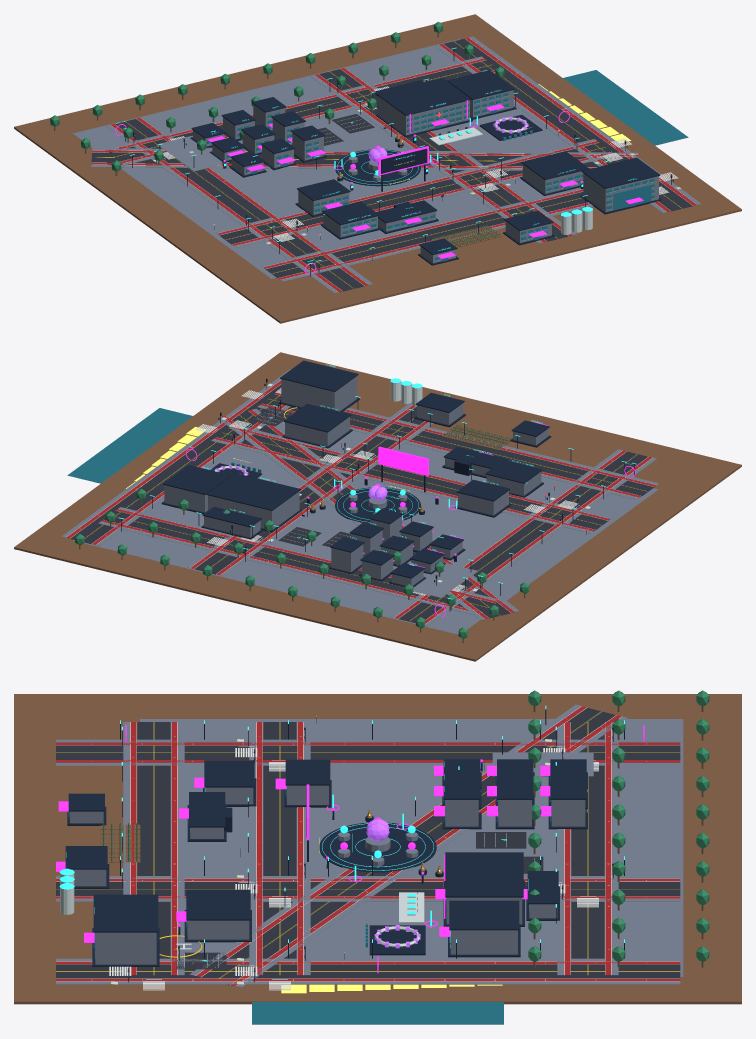
File: ENV_Arapiraca_Cyber_20261005.glb
The picture shows the model from 3 angles, top to bottom: view 1: azimuth 30°, elevation 25°; view 2: azimuth 150°, elevation 25°; view 3: azimuth 270°, elevation 25°; orthographic projection. The views are drawn at different scales.
Visible parts, largest first — view 1: ENV_ARAP_Base, ENV_ARAP_UrbanPlate, ROAD_WEST_COLLECTOR, ROAD_SOUTH_ACCESS, ROAD_OUTER_COLLECTOR, ENV_ARAP_SeaPortal, ROAD_EAST_WEST, ROAD_EAST_COLLECTOR, BLD_PREP_Emergency_HEA_Concept_Roof, ROAD_AL220_HEA_AXIS, ROAD_NORTH_ACCESS, BLD_PREP_Emergency_HEA_Concept_Core (+43 smaller); view 2: ENV_ARAP_Base, ENV_ARAP_UrbanPlate, ROAD_WEST_COLLECTOR, ENV_ARAP_SeaPortal, ROAD_EAST_WEST, ROAD_OUTER_COLLECTOR, ROAD_SOUTH_ACCESS, ROAD_NORTH_ACCESS, ROAD_AL220_HEA_AXIS, ROAD_EAST_COLLECTOR, BLD_PREP_Emergency_HEA_Concept_Roof, BLD_HelicopterHangar_Core (+47 smaller); view 3: ENV_ARAP_Base, ENV_ARAP_UrbanPlate, ROAD_OUTER_COLLECTOR, ROAD_WEST_COLLECTOR, ENV_ARAP_SeaPortal, ROAD_SOUTH_ACCESS, ROAD_NORTH_ACCESS, ROAD_AL220_HEA_AXIS, ROAD_EAST_WEST, ROAD_EAST_COLLECTOR, BLD_PREP_Emergency_HEA_Concept_Roof, PLAZA_Base (+56 smaller).
Boxes of the visible parts, x1,y1,x2,y2 form: ENV_ARAP_Base: [14, 14, 741, 323]; ENV_ARAP_UrbanPlate: [73, 39, 568, 278]; ROAD_WEST_COLLECTOR: [115, 119, 364, 291]; ROAD_SOUTH_ACCESS: [266, 192, 587, 277]; ROAD_OUTER_COLLECTOR: [443, 38, 692, 211]; ENV_ARAP_SeaPortal: [563, 70, 688, 145]; ROAD_EAST_WEST: [219, 146, 611, 244]; ROAD_EAST_COLLECTOR: [319, 69, 568, 241]; BLD_PREP_Emergency_HEA_Concept_Roof: [377, 78, 471, 115]; ROAD_AL220_HEA_AXIS: [91, 152, 628, 166]; ROAD_NORTH_ACCESS: [109, 60, 496, 161]; BLD_PREP_Emergency_HEA_Concept_Core: [378, 96, 469, 135]; ENV_ARAP_Base: [14, 352, 741, 661]; ENV_ARAP_UrbanPlate: [73, 421, 658, 634]; ROAD_WEST_COLLECTOR: [399, 451, 647, 623]; ENV_ARAP_SeaPortal: [67, 408, 192, 483]; ROAD_EAST_WEST: [217, 428, 607, 529]; ROAD_OUTER_COLLECTOR: [70, 384, 281, 543]; ROAD_SOUTH_ACCESS: [264, 395, 654, 495]; ROAD_NORTH_ACCESS: [105, 511, 494, 607]; ROAD_AL220_HEA_AXIS: [232, 411, 510, 618]; ROAD_EAST_COLLECTOR: [195, 406, 424, 574]; BLD_PREP_Emergency_HEA_Concept_Roof: [206, 473, 300, 510]; BLD_HelicopterHangar_Core: [281, 376, 357, 411]; ENV_ARAP_Base: [14, 694, 741, 1004]; ENV_ARAP_UrbanPlate: [140, 719, 683, 976]; ROAD_OUTER_COLLECTOR: [56, 964, 680, 978]; ROAD_WEST_COLLECTOR: [56, 745, 680, 759]; ENV_ARAP_SeaPortal: [252, 1002, 503, 1024]; ROAD_SOUTH_ACCESS: [137, 722, 170, 968]; ROAD_NORTH_ACCESS: [571, 722, 604, 958]; ROAD_AL220_HEA_AXIS: [201, 708, 615, 984]; ROAD_EAST_WEST: [263, 722, 296, 973]; ROAD_EAST_COLLECTOR: [56, 882, 680, 895]; BLD_PREP_Emergency_HEA_Concept_Roof: [445, 852, 523, 897]; PLAZA_Base: [319, 822, 436, 872].
Bounding box in the file's own units: 279 × 28.5 × 260.
